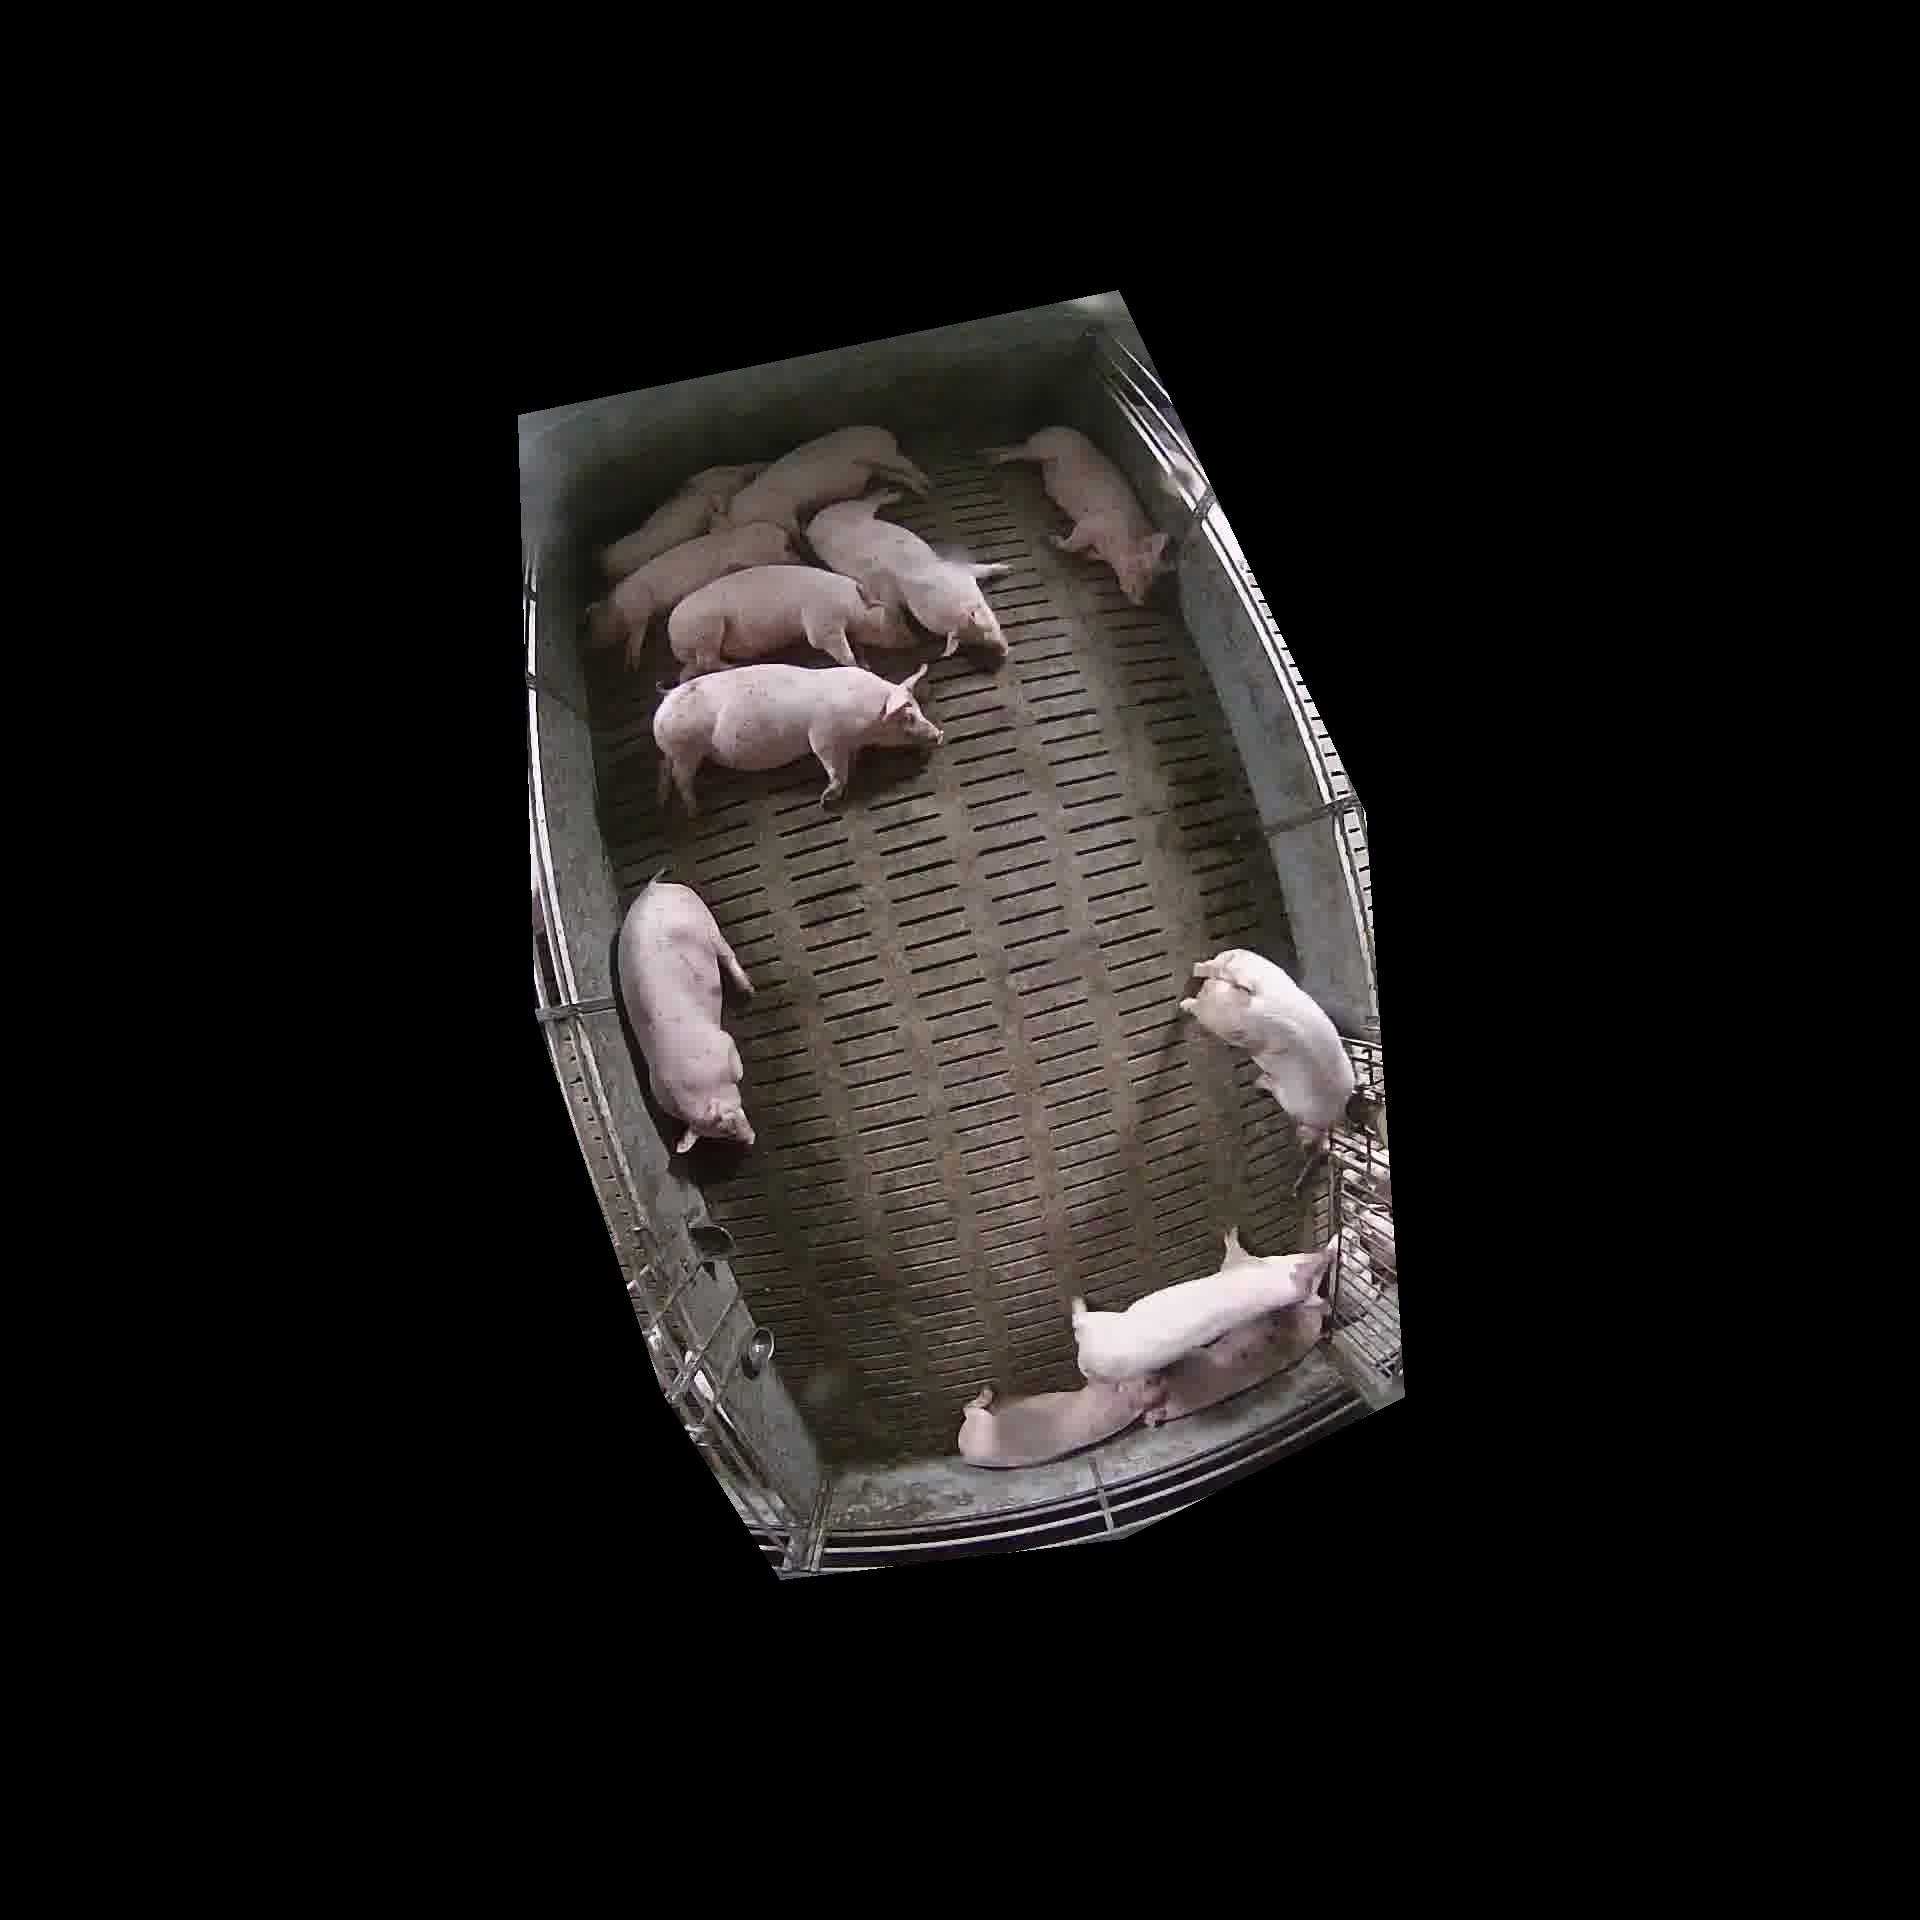pig: (652, 665, 942, 814), (1073, 1233, 1327, 1380), (617, 879, 754, 1152), (1182, 949, 1354, 1148), (805, 491, 1007, 659), (986, 425, 1167, 605), (587, 522, 796, 666), (668, 564, 914, 679), (1145, 1294, 1327, 1424), (726, 425, 928, 536), (596, 464, 765, 582), (958, 1378, 1159, 1466)
